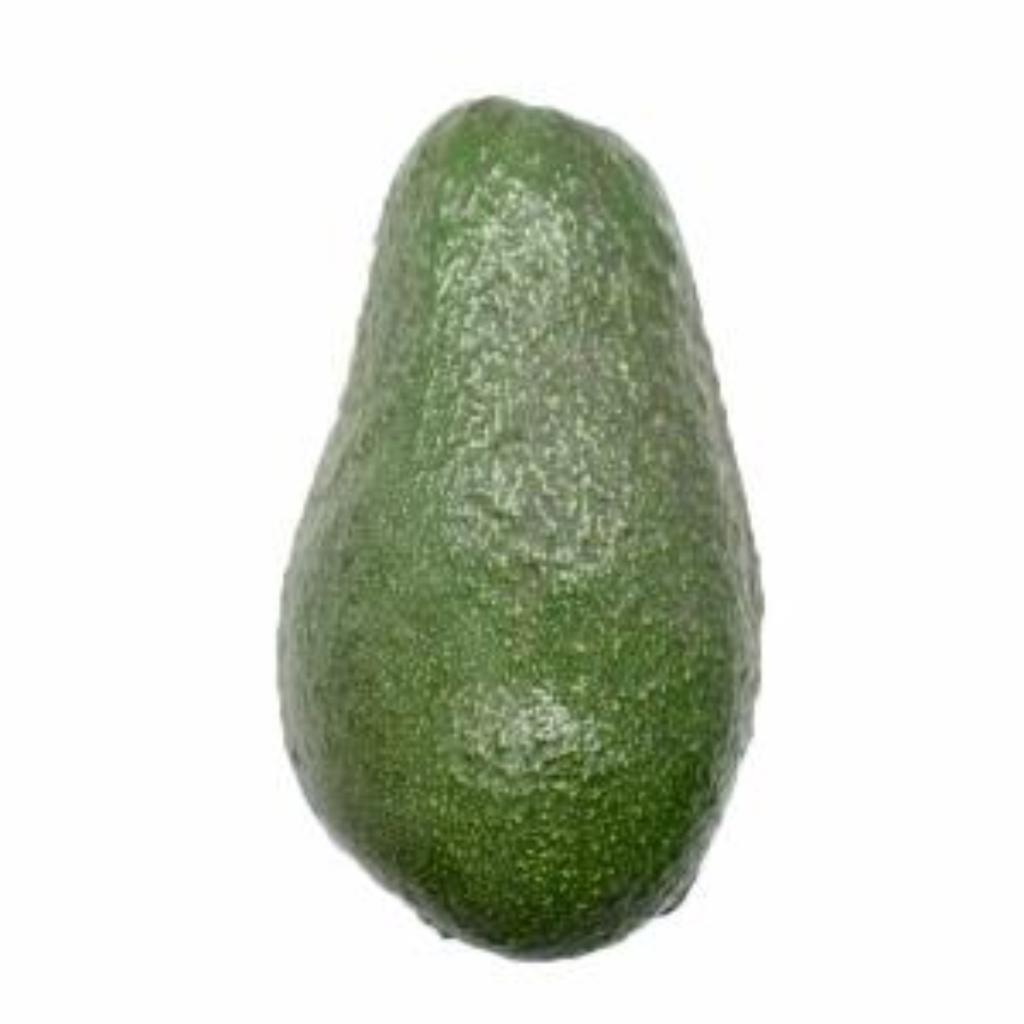cercospora_spot: (210, 95, 824, 969)
